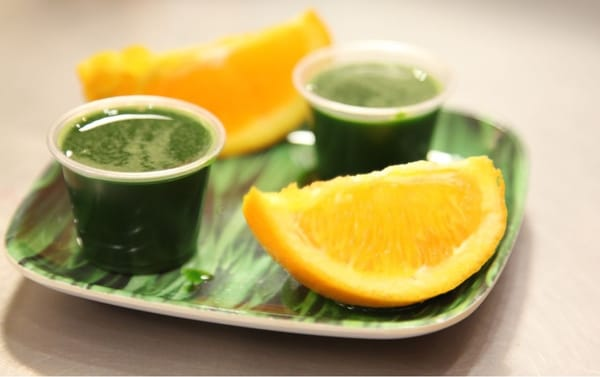taco: (242, 154, 508, 308)
